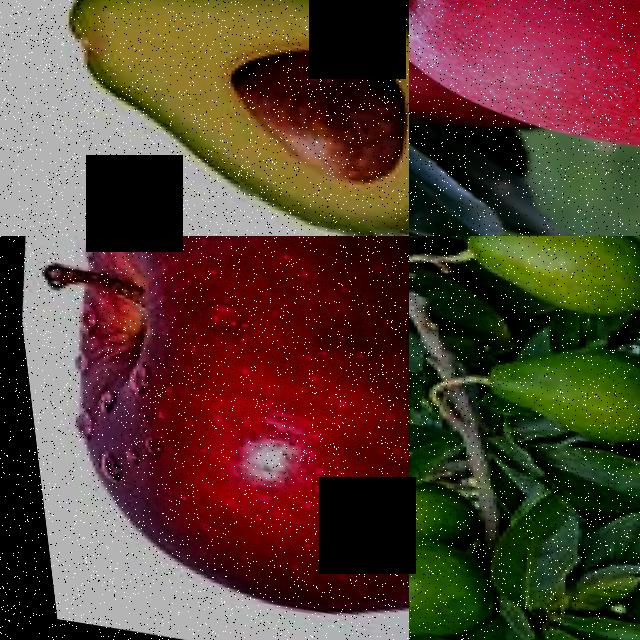apple: (0, 236, 409, 640), (409, 0, 640, 191)
avocado: (0, 0, 409, 236), (451, 321, 640, 457), (439, 236, 640, 333), (409, 532, 505, 640), (409, 462, 488, 564)
